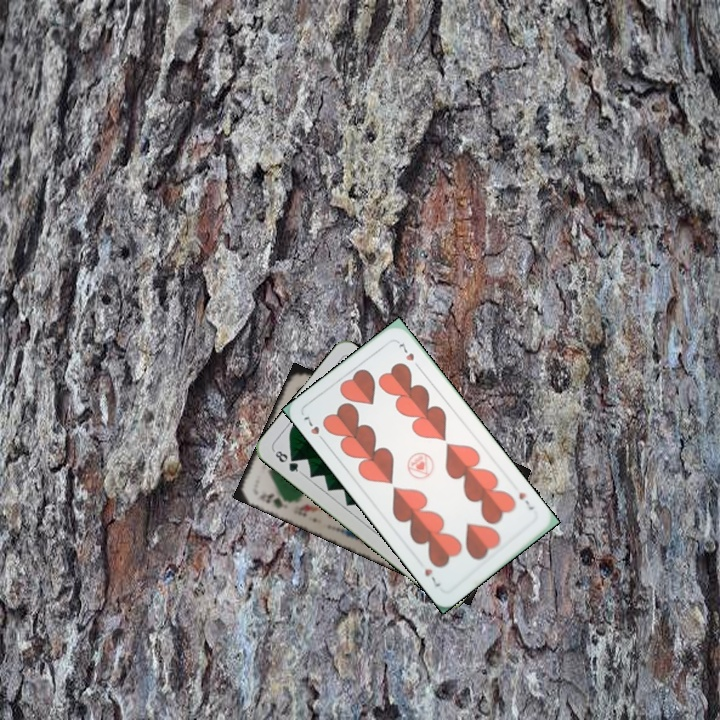G8: (270, 446, 304, 476)
GK: (256, 489, 292, 511)
H7: (299, 412, 329, 446), (515, 488, 536, 513)
